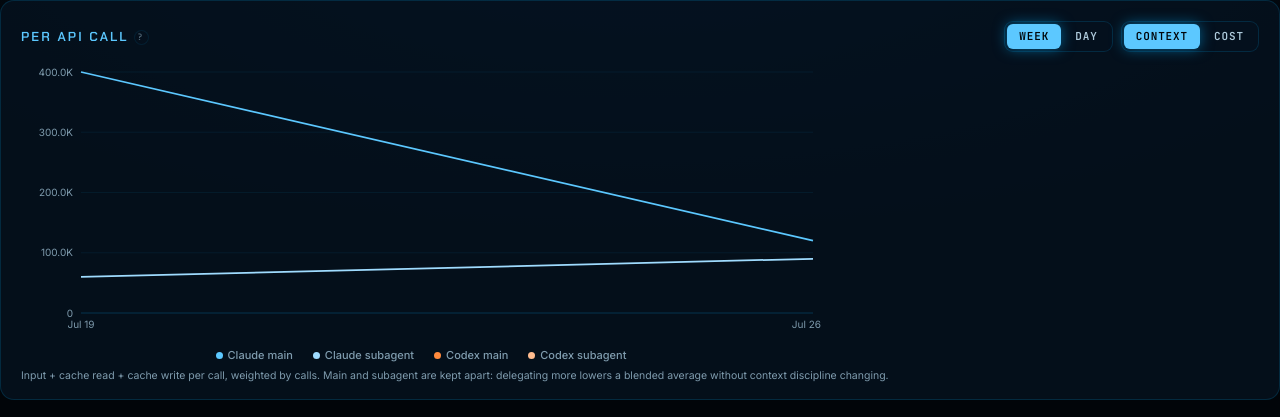
Test: PerCallTrend › switches to Cost mode and changes the caveat text with it
This screenshot has width=1280, height=417.
Click the button "Cost": (1229, 36) x1=1202 y1=24 x2=1256 y2=48
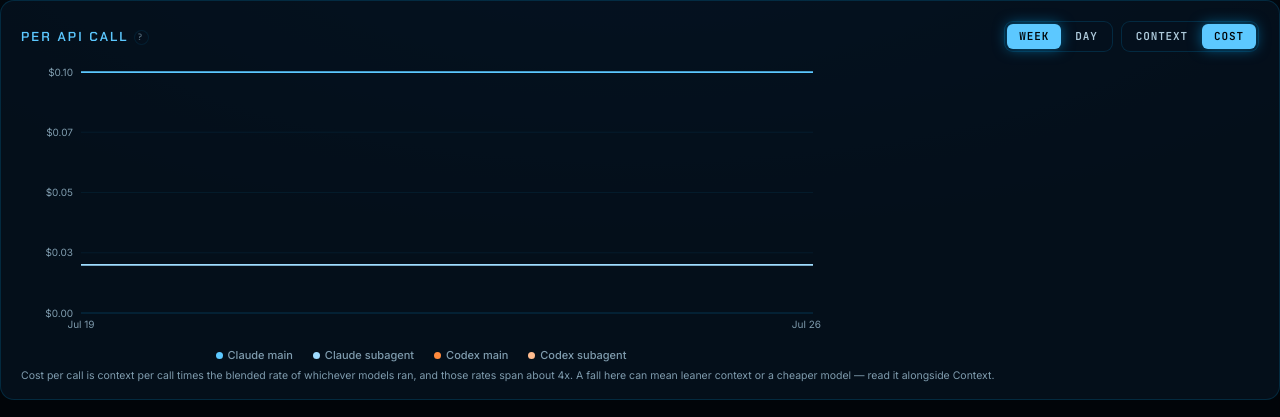
Now the text "cheaper model" is shown, box x1=21 y1=368 x2=994 y2=382
